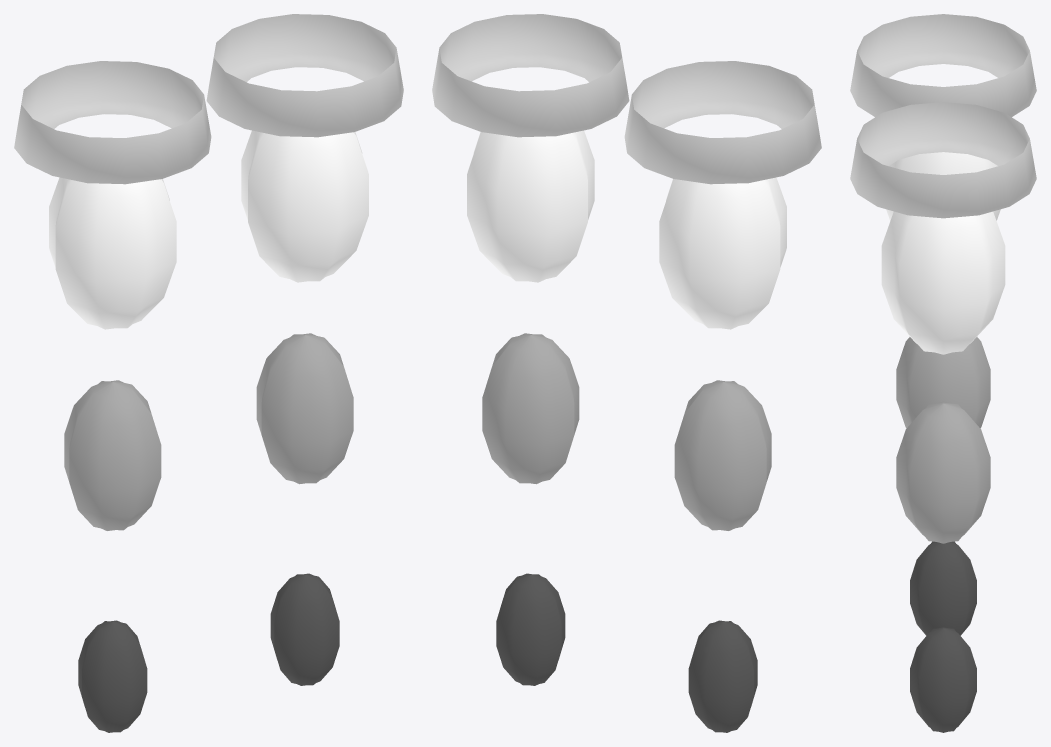
The model's file is jet_plume.glb.
3 renders of one model, left to right at view 1: azimuth 30°, elevation 25°; view 2: azimuth 150°, elevation 25°; view 3: azimuth 270°, elevation 25°, orthographic. The views are drawn at different scales.
Visible parts, largest first — view 1: jet_plume; view 2: jet_plume; view 3: jet_plume.
Part boxes in pixels (x1=…): jet_plume: x1=14, y1=14, x2=403, y2=732; jet_plume: x1=432, y1=14, x2=821, y2=732; jet_plume: x1=850, y1=14, x2=1036, y2=732.
Size of the model in its own units: 0.3109 by 0.515 by 0.1469.
2 materials, 2 textured.
